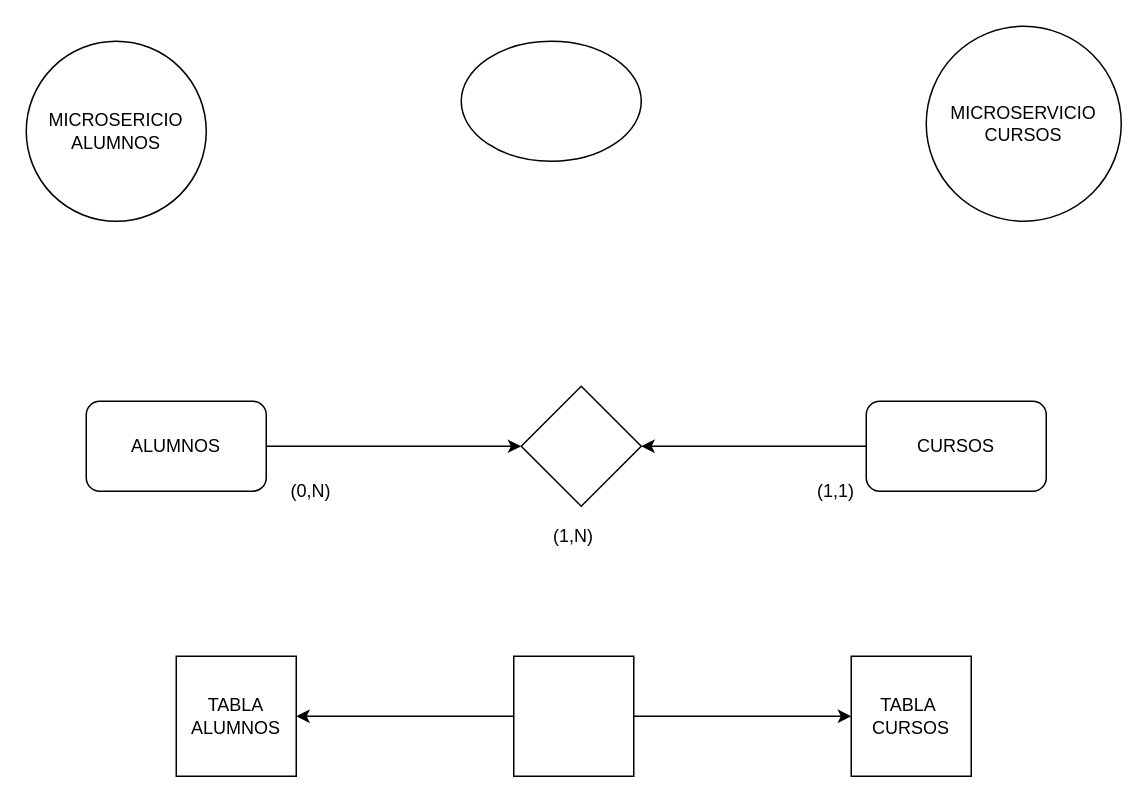
Image size: 1148x803. Some labels were removed from this diagram. Here are the shapes that lost their labels. From the top down, the centre of each, then its label:
the point at 550,100: LIBRERÍA COMMON (alumno)
the point at 580,445: ASISTE
the point at 573,715: TABLA ALUMNOS CURSO
